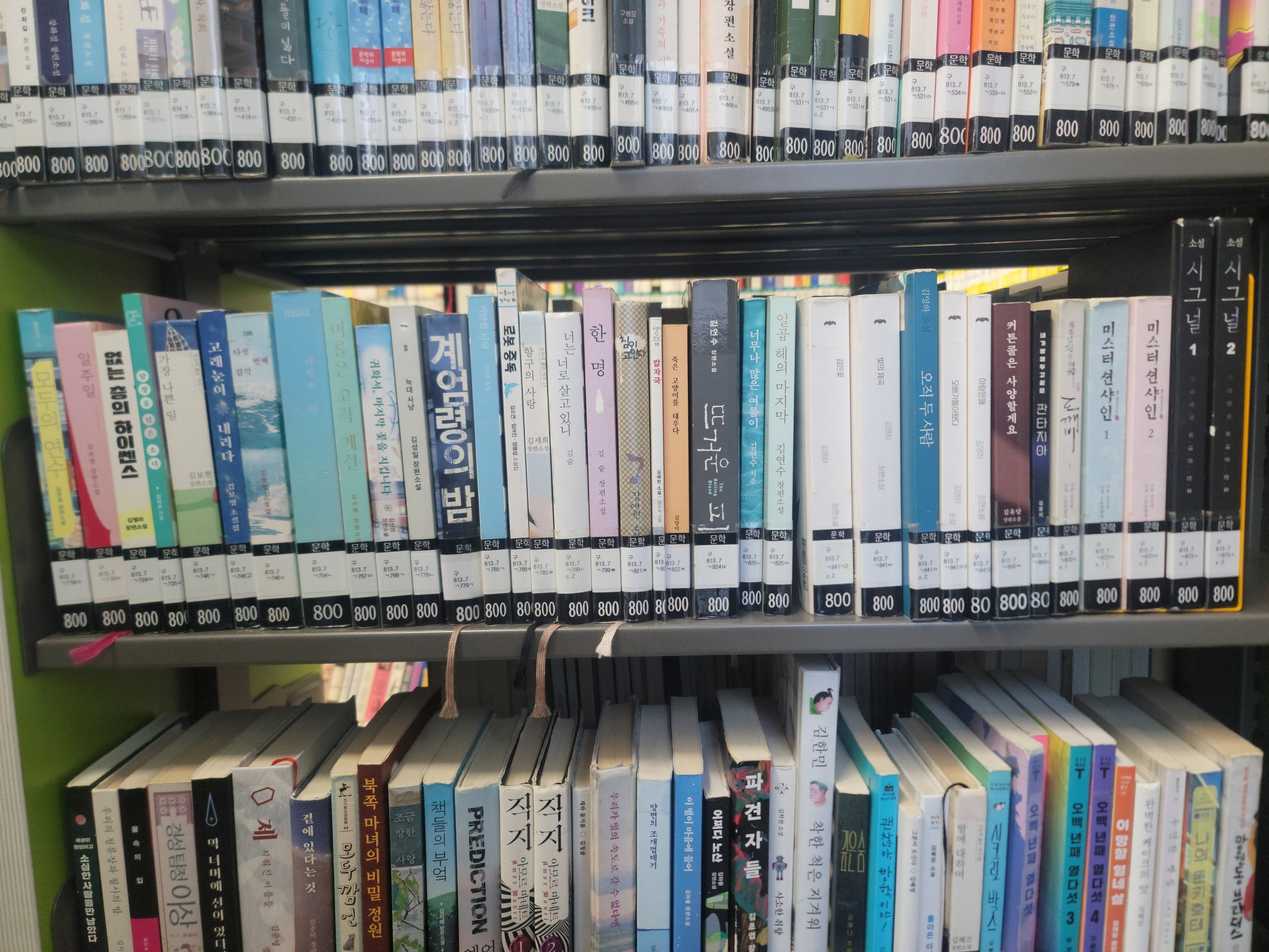book-spine: (269, 291, 351, 628), (15, 309, 96, 633), (149, 320, 232, 632), (225, 312, 304, 629), (53, 322, 132, 633), (121, 294, 189, 633), (91, 330, 166, 633), (195, 310, 261, 630), (320, 298, 382, 629), (418, 313, 484, 623), (1204, 218, 1252, 611), (353, 325, 415, 628), (387, 306, 444, 626), (1169, 219, 1214, 611), (808, 297, 857, 618), (856, 295, 905, 616), (692, 279, 738, 620), (465, 295, 512, 626), (1124, 297, 1173, 611), (544, 311, 592, 623), (1081, 299, 1129, 611), (580, 287, 623, 621), (494, 270, 534, 623), (612, 299, 653, 621), (518, 311, 558, 622), (994, 301, 1031, 617), (1052, 300, 1086, 614), (913, 271, 941, 620), (766, 296, 796, 619), (661, 322, 692, 620), (939, 292, 967, 621), (739, 298, 766, 619), (968, 295, 992, 620), (1031, 309, 1051, 617), (648, 310, 667, 623)
